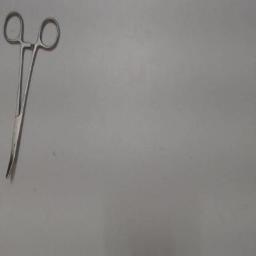Crile Artery Forceps: (2, 8, 62, 184)
